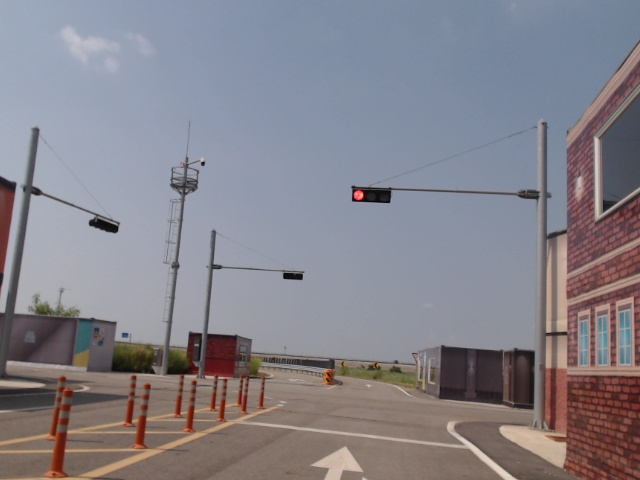red_3: (352, 188, 390, 202)
